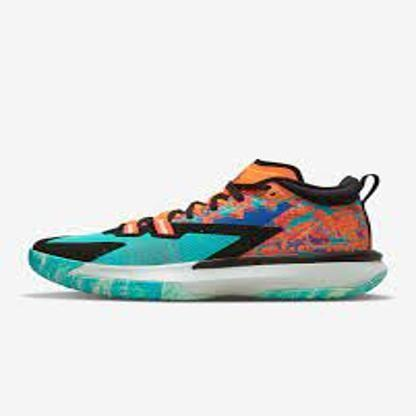not trash: (26, 158, 385, 300)
